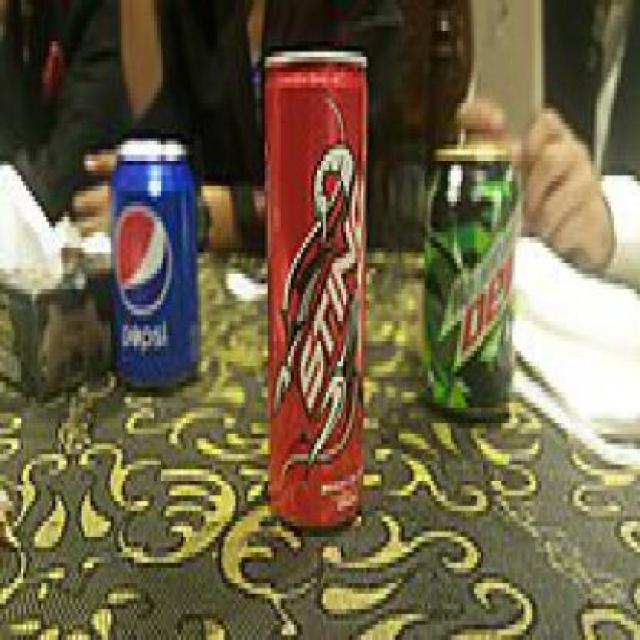non-organic waste: (251, 40, 375, 543), (417, 134, 526, 441), (106, 124, 208, 404)
